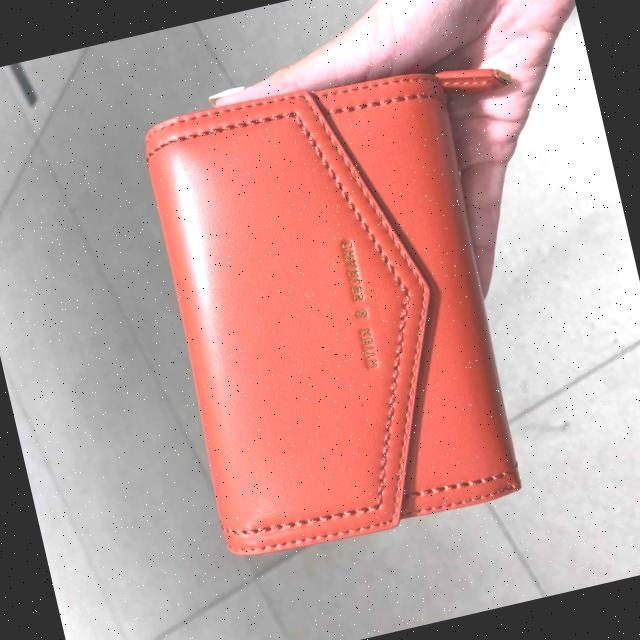Handbag: (85, 46, 562, 580)
